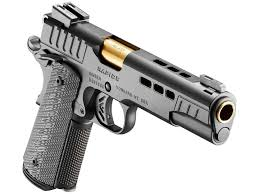gun: (22, 1, 237, 191)
